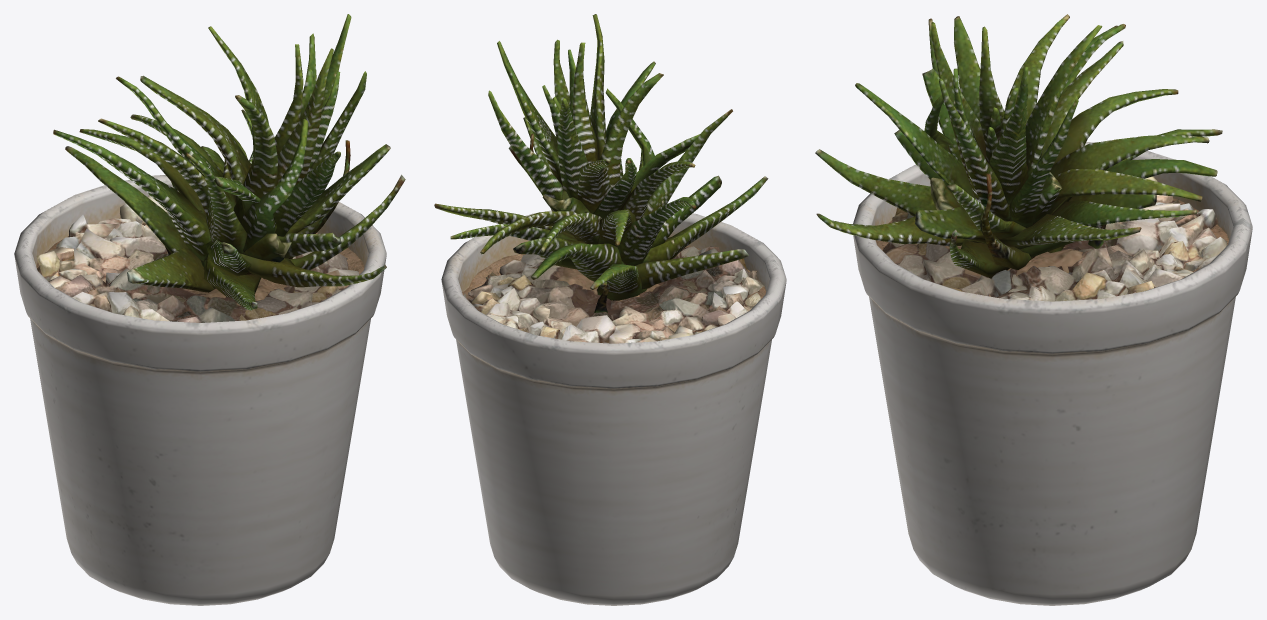
File: MASETA.glb
3 renders of one model, left to right at view 1: azimuth 30°, elevation 25°; view 2: azimuth 150°, elevation 25°; view 3: azimuth 270°, elevation 25°, orthographic. The views are drawn at different scales.
Parts seen in each view (by area): view 1: potted_plant_04; view 2: potted_plant_04; view 3: potted_plant_04.
Part boxes in pixels (bbox=[...]): potted_plant_04: bbox=[14, 14, 405, 605]; potted_plant_04: bbox=[434, 14, 786, 605]; potted_plant_04: bbox=[815, 14, 1252, 605].
Size of the model in its own units: 0.8325 by 1.31 by 0.9091.
Materials: 1 (1 with a texture image).
